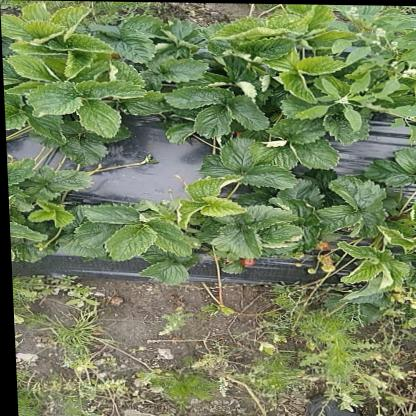ripe: (235, 254, 254, 268), (316, 240, 330, 251)
unripe: (318, 264, 334, 272), (303, 266, 314, 274), (407, 299, 416, 304), (293, 261, 300, 266)
